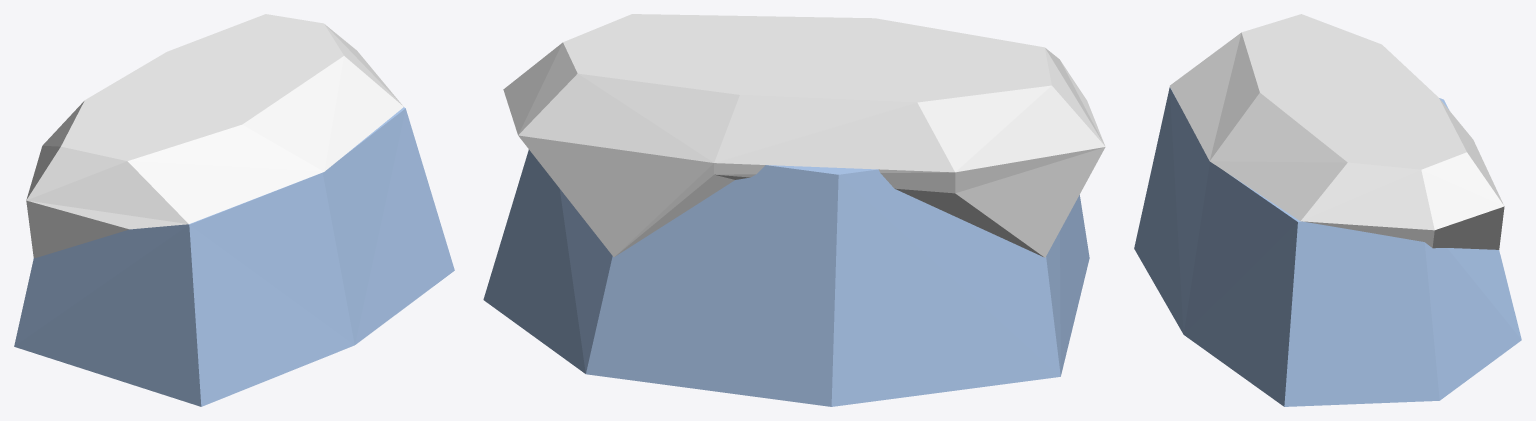
Rendered from HieloPiedraPeque.fbx.
3 views of the same model, side by side, from view 1: azimuth 30°, elevation 25°; view 2: azimuth 150°, elevation 25°; view 3: azimuth 270°, elevation 25° (orthographic). The views are drawn at different scales.
Parts seen in each view (by area): view 1: piedra pequeña; view 2: piedra pequeña; view 3: piedra pequeña.
Part boxes in pixels (box(x1,y1,x2,y2)): piedra pequeña: box(14, 14, 454, 406); piedra pequeña: box(483, 14, 1105, 406); piedra pequeña: box(1134, 14, 1521, 406).
Bounding box in the file's own units: 2.44 × 1.17 × 1.97.
